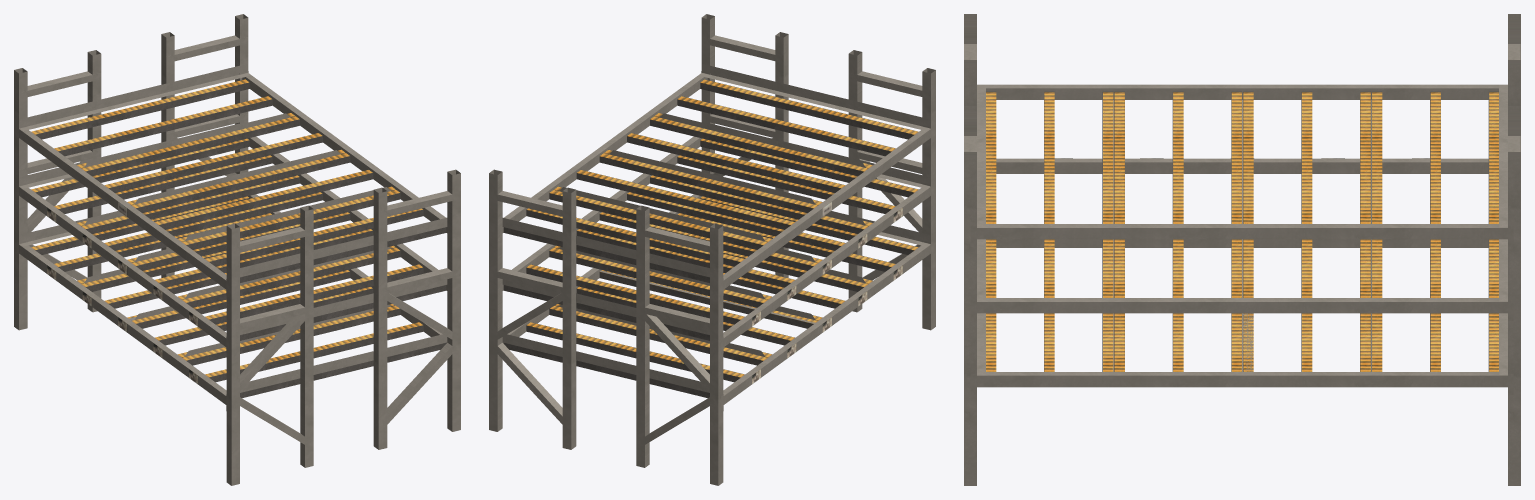
File: huojia1.FBX
3 views of the same model, side by side, from view 1: azimuth 30°, elevation 25°; view 2: azimuth 150°, elevation 25°; view 3: azimuth 270°, elevation 25° (orthographic). The views are drawn at different scales.
Parts seen in each view (by area): view 1: YF_Model_huojia1; view 2: YF_Model_huojia1; view 3: YF_Model_huojia1.
Part boxes in pixels (x1,y1,x2,y2): YF_Model_huojia1: (14, 14, 460, 485); YF_Model_huojia1: (489, 14, 935, 485); YF_Model_huojia1: (964, 14, 1520, 485).
Bounding box in the file's own units: 187 × 200 × 307.
